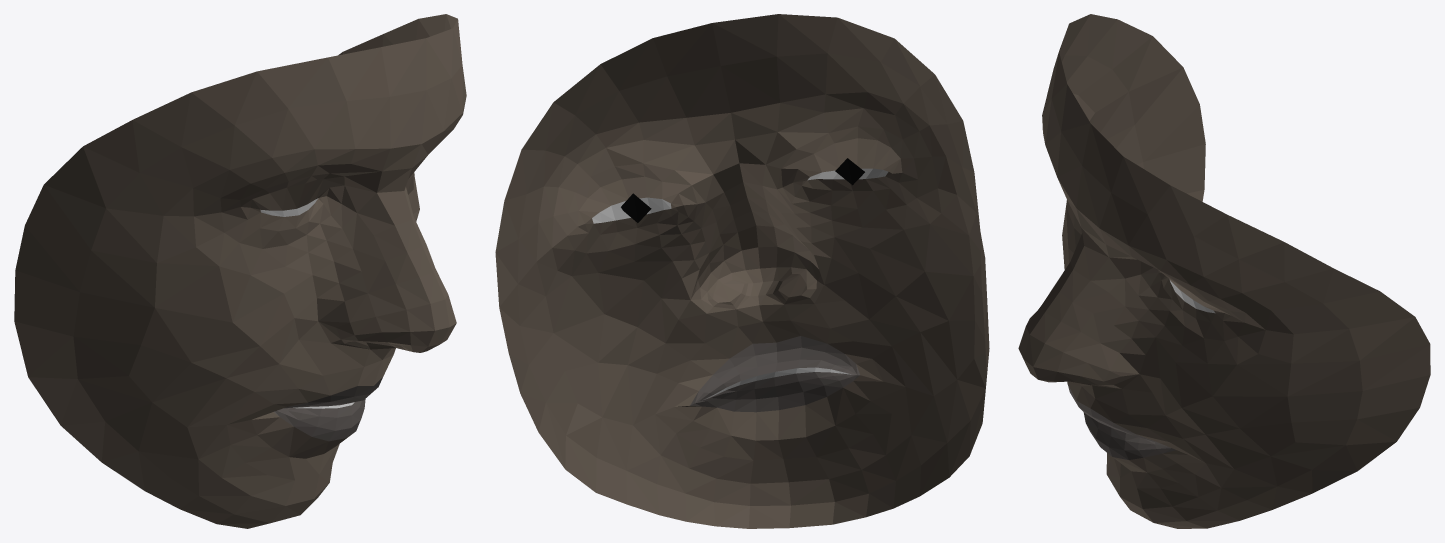
File: frame_00028.obj
3 views of the same model, side by side, from view 1: azimuth 30°, elevation 25°; view 2: azimuth 150°, elevation 25°; view 3: azimuth 270°, elevation 25° (orthographic). The views are drawn at different scales.
Parts seen in each view (by area): view 1: face_model_with_iris; view 2: face_model_with_iris; view 3: face_model_with_iris.
Part boxes in pixels (<box>): face_model_with_iris: <box>14,14,466,528</box>; face_model_with_iris: <box>495,14,989,528</box>; face_model_with_iris: <box>1018,14,1430,528</box>.
Size of the model in its own units: 0.4915 by 0.526 by 0.4222.
